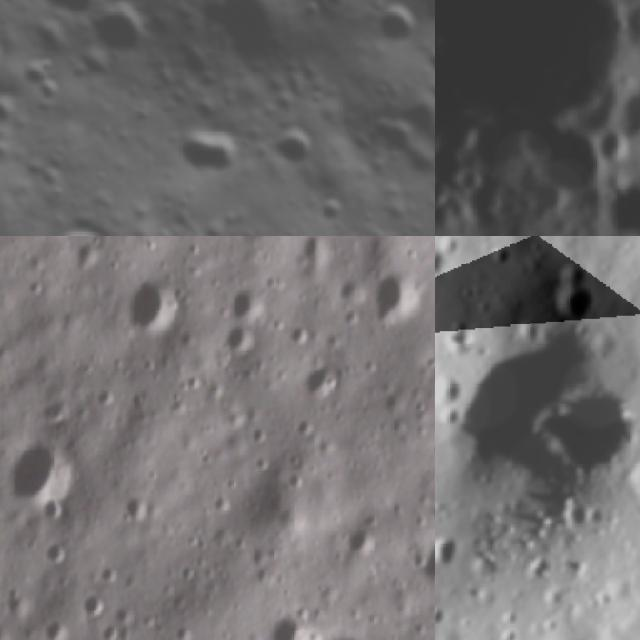crater: (513, 348, 640, 499), (531, 250, 615, 332), (12, 429, 78, 524), (175, 109, 243, 180), (348, 0, 427, 59), (80, 0, 151, 64), (597, 78, 640, 169), (587, 164, 640, 236), (125, 272, 188, 330), (374, 266, 424, 332), (578, 126, 634, 184), (19, 0, 113, 28), (38, 208, 127, 236), (275, 121, 321, 168), (346, 512, 388, 563), (309, 357, 346, 408), (435, 363, 469, 415), (218, 324, 262, 357), (435, 525, 465, 569), (481, 236, 518, 271), (266, 618, 324, 640), (226, 292, 268, 321), (0, 30, 19, 93), (123, 494, 157, 527), (69, 244, 105, 272), (486, 613, 523, 640), (435, 236, 452, 286), (81, 586, 105, 620), (420, 536, 435, 589), (294, 313, 317, 347), (435, 596, 449, 630), (603, 236, 640, 246), (0, 326, 12, 352)
